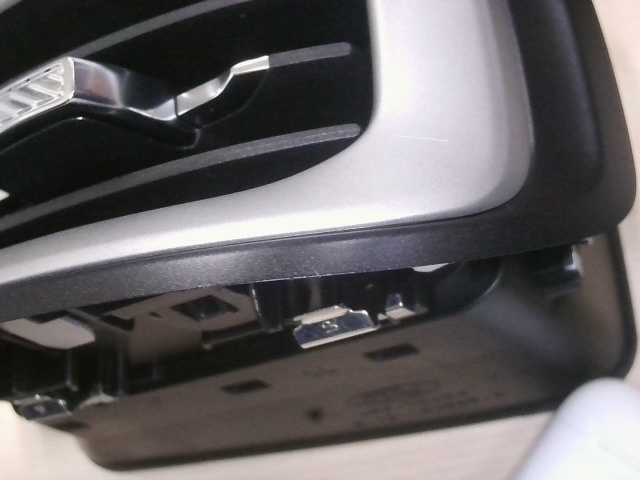NG: (396, 125, 466, 157), (288, 256, 346, 281)
